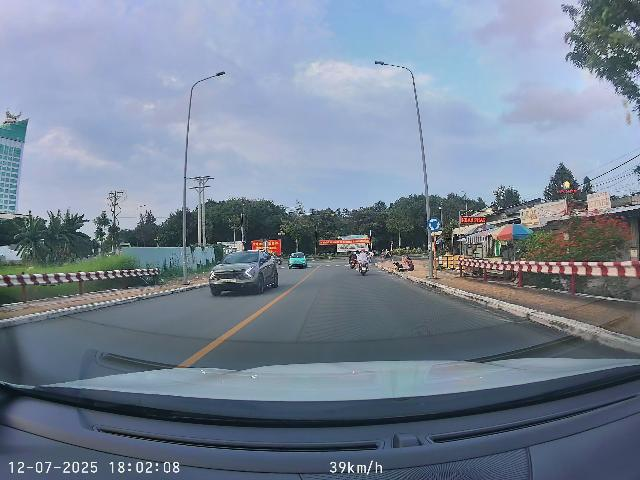303-noi-giao-nhau-chay-theo-vong-xuyen: (426, 216, 441, 232)
